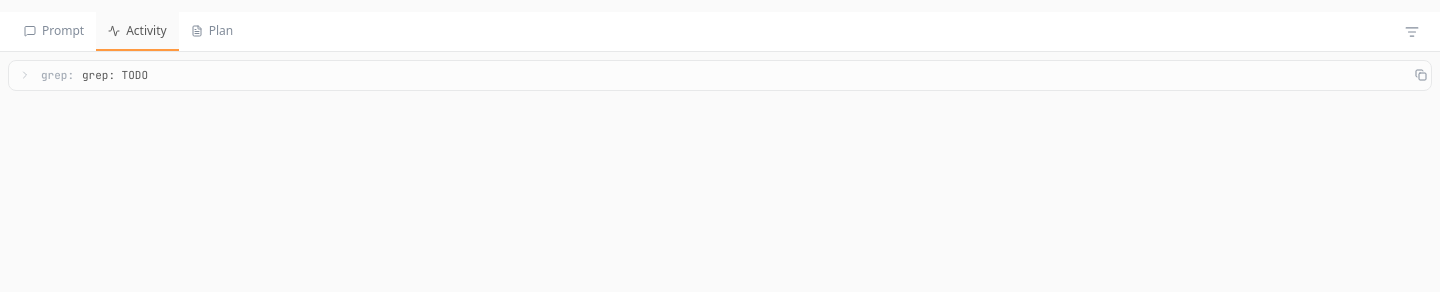
Test case: NotificationDrawer raw fallback › renders a collapsed raw summary card when custom renderers are disabled
This screenshot has width=1440, height=292.
Check: the text "grep:" is shown, box [41,67,74,84]
Check: the text "Input" is not shown
Note: Expanding reveals the raw input/output detail.
Click the button "grep: grep: TODO" at (115, 75), box [9,61,1411,90]
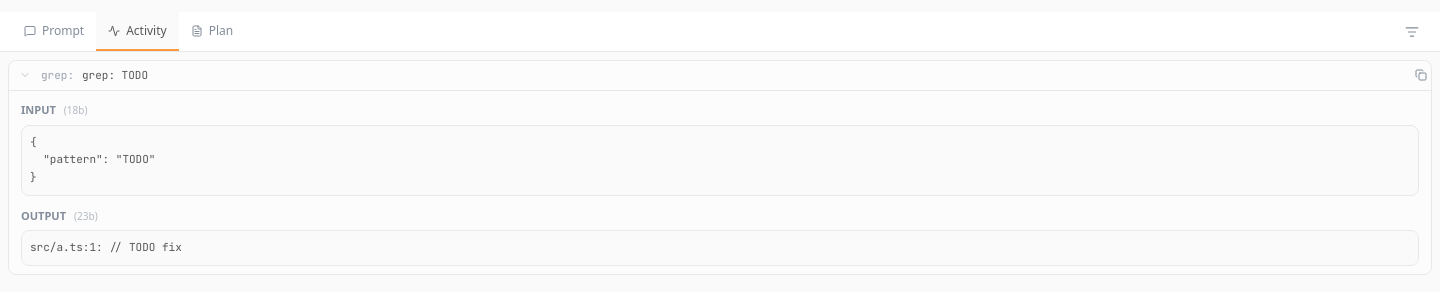
Check: the text "Input" is shown, box [21,102,56,119]
Check: the text "Output" is shown, box [21,208,66,224]
Check: the text "src/a.ts:1: // TODO fix" is shown, box [21,230,1419,266]
